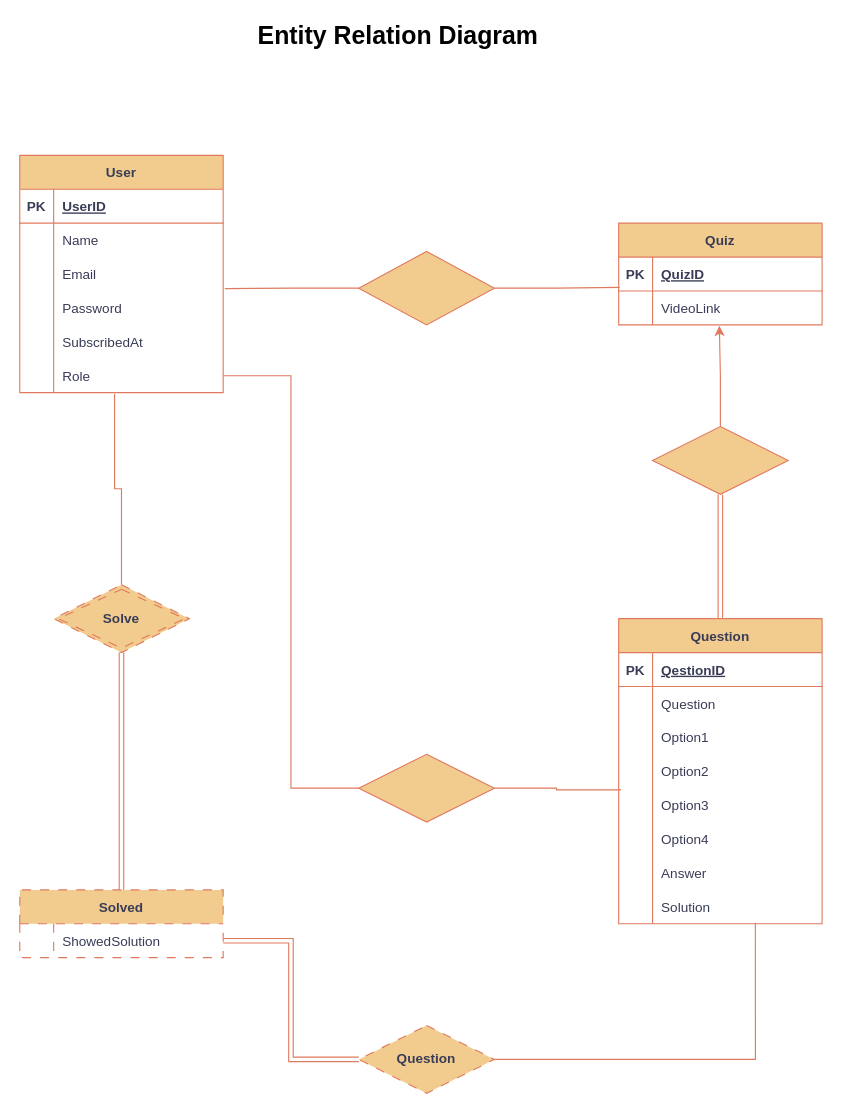
Image size: 842x1113. Some labels were removed from this diagram. Here are the shapes that lost their labels. From the top down, the box of each, then its label:
(358, 250, 494, 325): Create
(651, 425, 788, 494): Has
(358, 753, 494, 822): Participate
